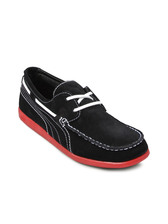shoes: (14, 64, 154, 168)
